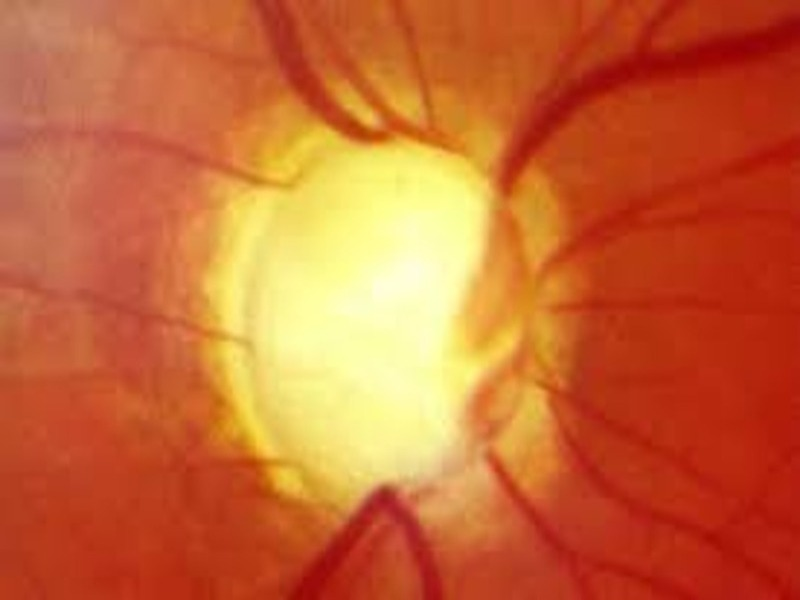Optic Cup: (245, 143, 490, 499)
Optic Disc: (206, 97, 563, 519)
